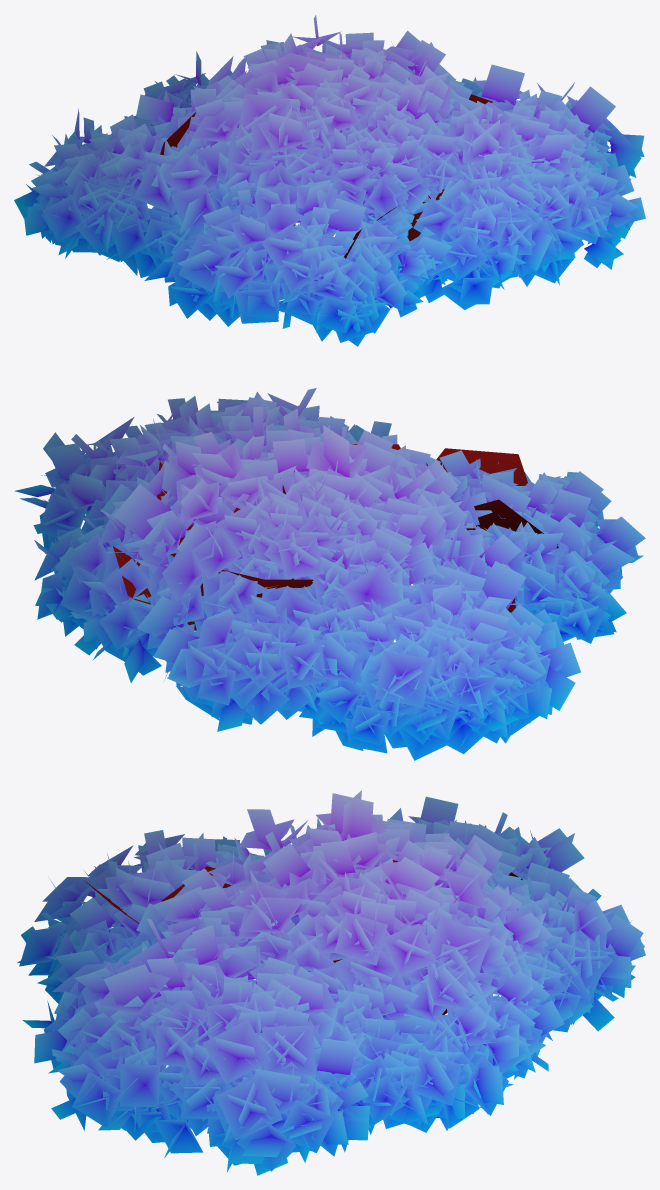
The model's file is SM_Env_Bush_Tropical_04.glb.
3 views of the same model, one above another, from view 1: azimuth 30°, elevation 25°; view 2: azimuth 150°, elevation 25°; view 3: azimuth 270°, elevation 25° (orthographic). The views are drawn at different scales.
Visible parts, largest first — view 1: SM_Env_Bush_Tropical_04_Leaves_LOD0, SM_Env_Bush_Tropical_04_Branches_LOD0; view 2: SM_Env_Bush_Tropical_04_Leaves_LOD0, SM_Env_Bush_Tropical_04_Branches_LOD0; view 3: SM_Env_Bush_Tropical_04_Leaves_LOD0.
Part boxes in pixels (x1=…): SM_Env_Bush_Tropical_04_Leaves_LOD0: x1=14, y1=15, x2=645, y2=346; SM_Env_Bush_Tropical_04_Branches_LOD0: x1=160, y1=94, x2=492, y2=258; SM_Env_Bush_Tropical_04_Leaves_LOD0: x1=14, y1=388, x2=645, y2=760; SM_Env_Bush_Tropical_04_Branches_LOD0: x1=113, y1=444, x2=558, y2=640; SM_Env_Bush_Tropical_04_Leaves_LOD0: x1=17, y1=790, x2=645, y2=1175.
Size of what is drawn, in the model's own units: 7.77 by 2.71 by 6.61.
